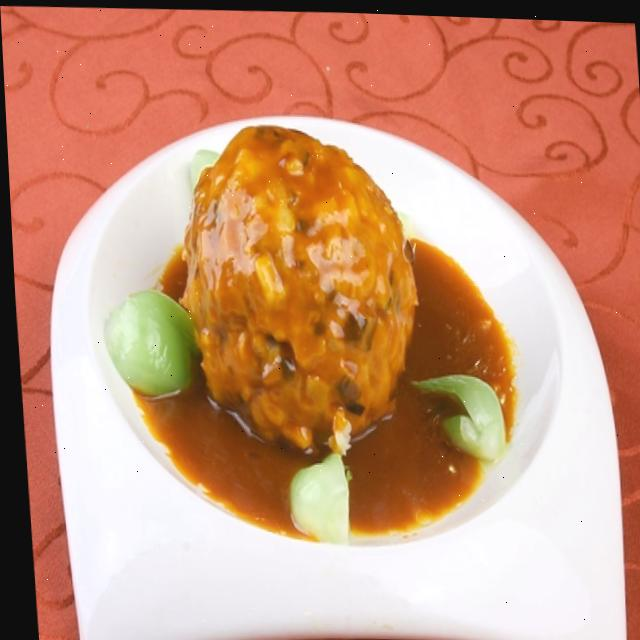猪肉菜式: (10, 44, 640, 640)
